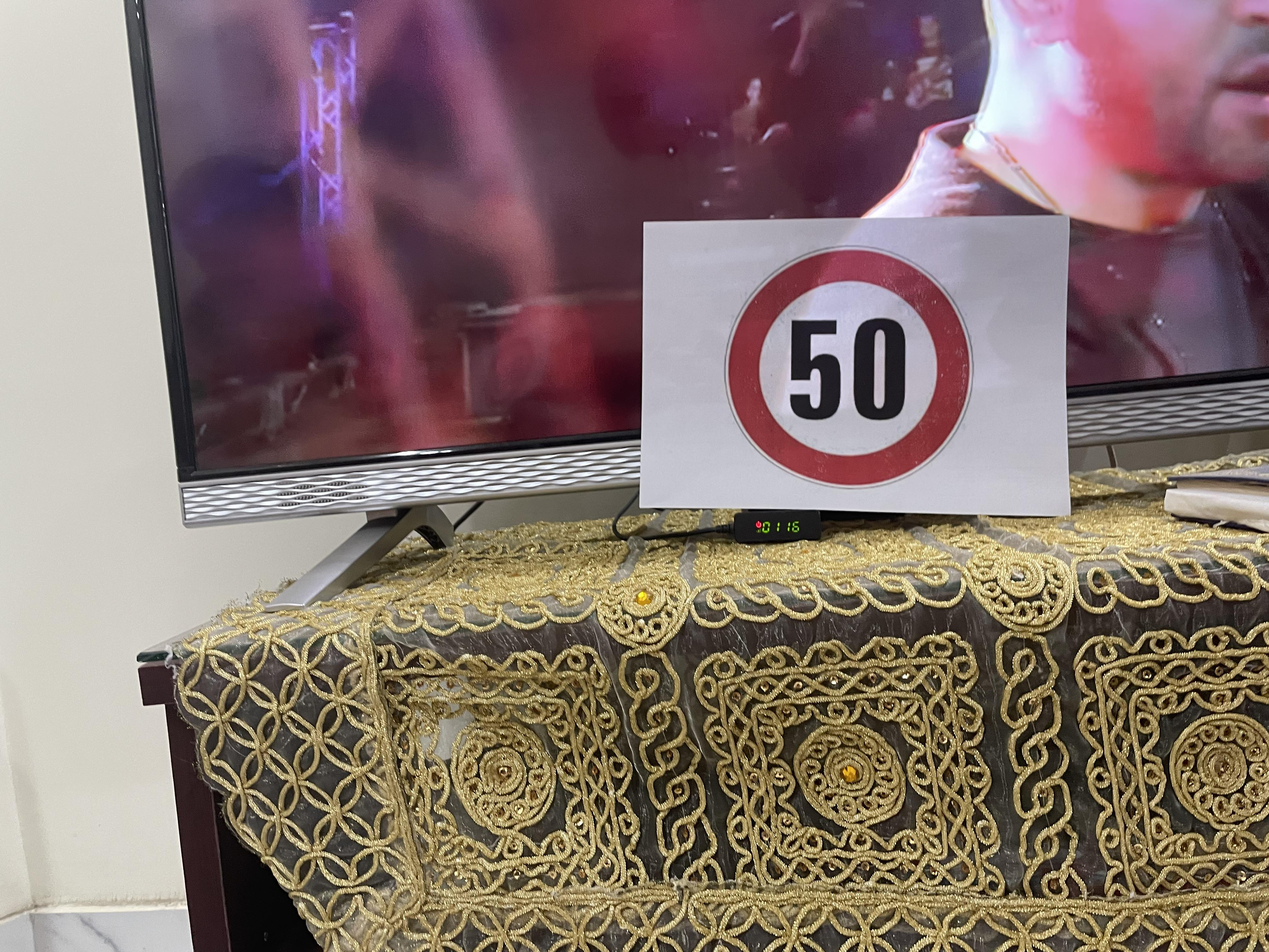50-Speed: (727, 243, 978, 490)
